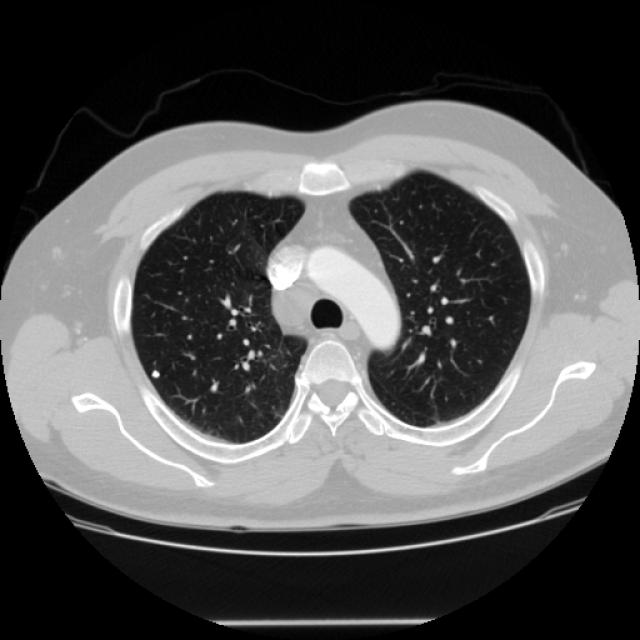nodule: (144, 361, 166, 384)
